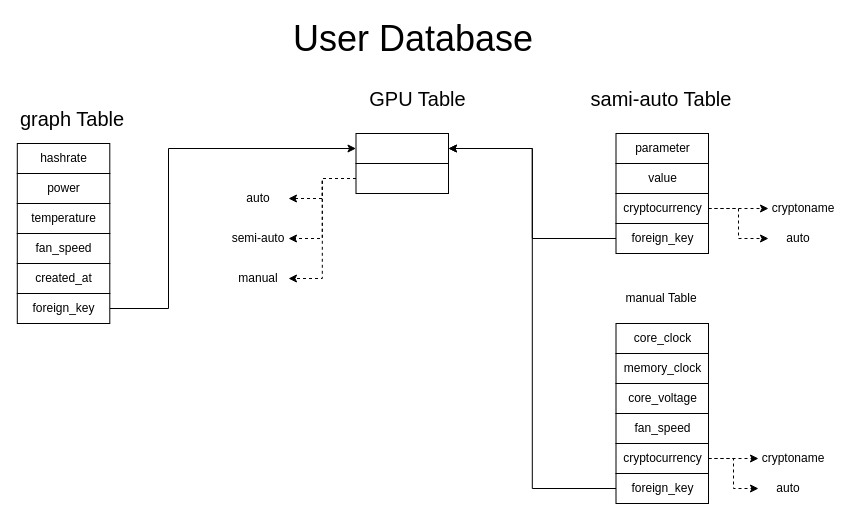
This 856x521 diagram has some shape labels left out. Each missing label, with the box of its shape:
setup: (355, 162, 448, 194)
uuid: (355, 132, 448, 164)
